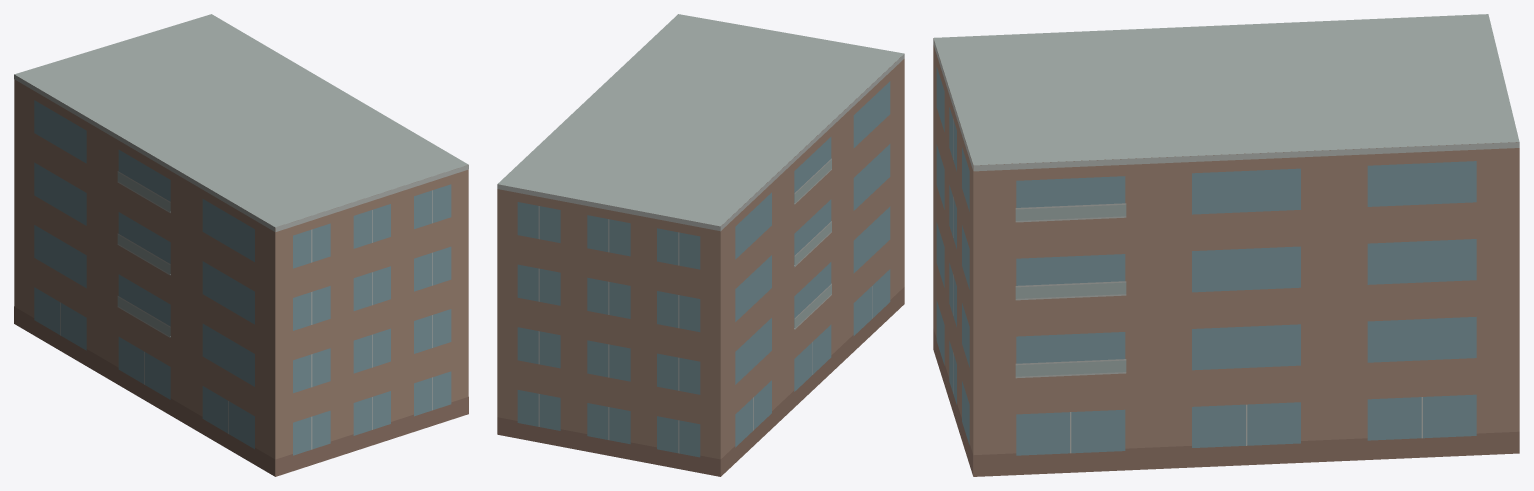
File: survey-upis-32993783.glb
3 renders of one model, left to right at view 1: azimuth 30°, elevation 25°; view 2: azimuth 150°, elevation 25°; view 3: azimuth 270°, elevation 25°, orthographic. The views are drawn at different scales.
Parts seen in each view (by area): view 1: survey-upis-32993783.tmp; view 2: survey-upis-32993783.tmp; view 3: survey-upis-32993783.tmp.
Part boxes in pixels (x1,y1,x2,y2): survey-upis-32993783.tmp: [14, 14, 468, 476]; survey-upis-32993783.tmp: [497, 14, 904, 476]; survey-upis-32993783.tmp: [933, 14, 1519, 476].
Bounding box in the file's own units: 13.25 × 12.7 × 21.67.
